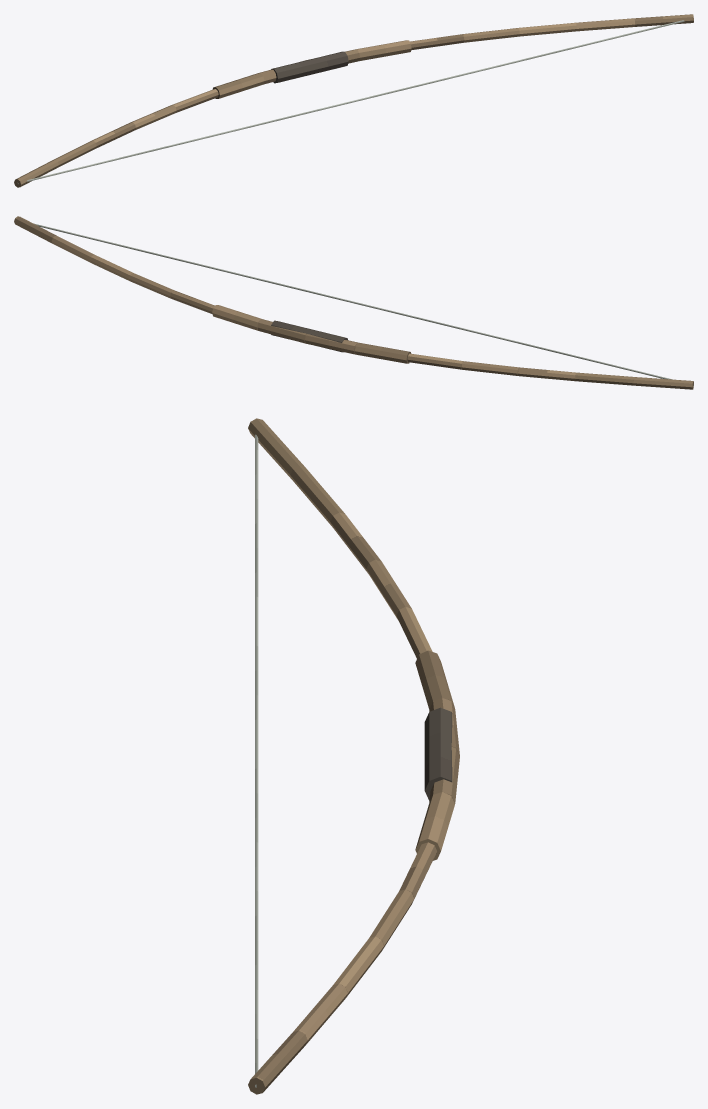
File: weapon-longbow.glb
3 renders of one model, top to bottom at view 1: azimuth 30°, elevation 25°; view 2: azimuth 150°, elevation 25°; view 3: azimuth 270°, elevation 25°, orthographic. The views are drawn at different scales.
Parts seen in each view (by area): view 1: weapon-longbow/complete-bow-string-1, weapon-longbow/central-dark-grip, weapon-longbow/octagonal-bow-limb-8, weapon-longbow/octagonal-bow-limb-5, weapon-longbow/octagonal-bow-limb-12, weapon-longbow/octagonal-bow-limb-11, weapon-longbow/octagonal-bow-limb-13, weapon-longbow/octagonal-bow-limb-10, weapon-longbow/octagonal-bow-limb-9, weapon-longbow/octagonal-bow-limb-0, weapon-longbow/octagonal-bow-limb-4, weapon-longbow/octagonal-bow-limb-3 (+2 smaller); view 2: weapon-longbow/complete-bow-string-1, weapon-longbow/octagonal-bow-limb-5, weapon-longbow/octagonal-bow-limb-8, weapon-longbow/octagonal-bow-limb-0, weapon-longbow/octagonal-bow-limb-1, weapon-longbow/octagonal-bow-limb-6, weapon-longbow/octagonal-bow-limb-2, weapon-longbow/octagonal-bow-limb-3, weapon-longbow/octagonal-bow-limb-7, weapon-longbow/central-dark-grip, weapon-longbow/octagonal-bow-limb-4, weapon-longbow/octagonal-bow-limb-10 (+4 smaller); view 3: weapon-longbow/complete-bow-string-1, weapon-longbow/central-dark-grip, weapon-longbow/octagonal-bow-limb-8, weapon-longbow/octagonal-bow-limb-13, weapon-longbow/octagonal-bow-limb-5, weapon-longbow/octagonal-bow-limb-0, weapon-longbow/octagonal-bow-limb-1, weapon-longbow/octagonal-bow-limb-12, weapon-longbow/octagonal-bow-limb-11, weapon-longbow/octagonal-bow-limb-2, weapon-longbow/octagonal-bow-limb-3, weapon-longbow/octagonal-bow-limb-10.
Part boxes in pixels (left/top/right/bottom): weapon-longbow/complete-bow-string-1: left=17, top=20, right=684, bottom=183; weapon-longbow/central-dark-grip: left=271, top=51, right=348, bottom=83; weapon-longbow/octagonal-bow-limb-8: left=357, top=40, right=411, bottom=60; weapon-longbow/octagonal-bow-limb-5: left=212, top=73, right=264, bottom=98; weapon-longbow/octagonal-bow-limb-12: left=576, top=18, right=634, bottom=31; weapon-longbow/octagonal-bow-limb-11: left=519, top=22, right=576, bottom=36; weapon-longbow/octagonal-bow-limb-13: left=634, top=14, right=693, bottom=26; weapon-longbow/octagonal-bow-limb-10: left=462, top=28, right=519, bottom=42; weapon-longbow/octagonal-bow-limb-9: left=410, top=34, right=464, bottom=50; weapon-longbow/octagonal-bow-limb-0: left=14, top=160, right=58, bottom=187; weapon-longbow/octagonal-bow-limb-4: left=172, top=89, right=218, bottom=112; weapon-longbow/octagonal-bow-limb-3: left=131, top=105, right=176, bottom=129; weapon-longbow/complete-bow-string-1: left=34, top=223, right=693, bottom=385; weapon-longbow/octagonal-bow-limb-5: left=354, top=342, right=410, bottom=363; weapon-longbow/octagonal-bow-limb-8: left=212, top=305, right=262, bottom=330; weapon-longbow/octagonal-bow-limb-0: left=633, top=377, right=693, bottom=389; weapon-longbow/octagonal-bow-limb-1: left=575, top=372, right=634, bottom=385; weapon-longbow/octagonal-bow-limb-6: left=305, top=334, right=357, bottom=354; weapon-longbow/octagonal-bow-limb-2: left=518, top=367, right=575, bottom=381; weapon-longbow/octagonal-bow-limb-3: left=461, top=361, right=518, bottom=375; weapon-longbow/octagonal-bow-limb-7: left=257, top=319, right=306, bottom=343; weapon-longbow/central-dark-grip: left=271, top=320, right=347, bottom=352; weapon-longbow/octagonal-bow-limb-4: left=407, top=353, right=463, bottom=369; weapon-longbow/octagonal-bow-limb-10: left=129, top=273, right=174, bottom=298; weapon-longbow/complete-bow-string-1: left=255, top=434, right=258, bottom=1087; weapon-longbow/central-dark-grip: left=424, top=707, right=452, bottom=800; weapon-longbow/octagonal-bow-limb-8: left=415, top=792, right=454, bottom=860; weapon-longbow/octagonal-bow-limb-13: left=248, top=1030, right=307, bottom=1094; weapon-longbow/octagonal-bow-limb-5: left=415, top=650, right=454, bottom=709; weapon-longbow/octagonal-bow-limb-0: left=248, top=418, right=304, bottom=479; weapon-longbow/octagonal-bow-limb-1: left=290, top=465, right=344, bottom=527; weapon-longbow/octagonal-bow-limb-12: left=293, top=983, right=347, bottom=1045; weapon-longbow/octagonal-bow-limb-11: left=333, top=936, right=383, bottom=997; weapon-longbow/octagonal-bow-limb-2: left=330, top=512, right=381, bottom=573; weapon-longbow/octagonal-bow-limb-3: left=366, top=559, right=411, bottom=620; weapon-longbow/octagonal-bow-limb-10: left=369, top=889, right=414, bottom=950.
Size of the model in its own units: 1.69 by 0.034 by 0.2283.
Materials: 3 (3 with a texture image).
